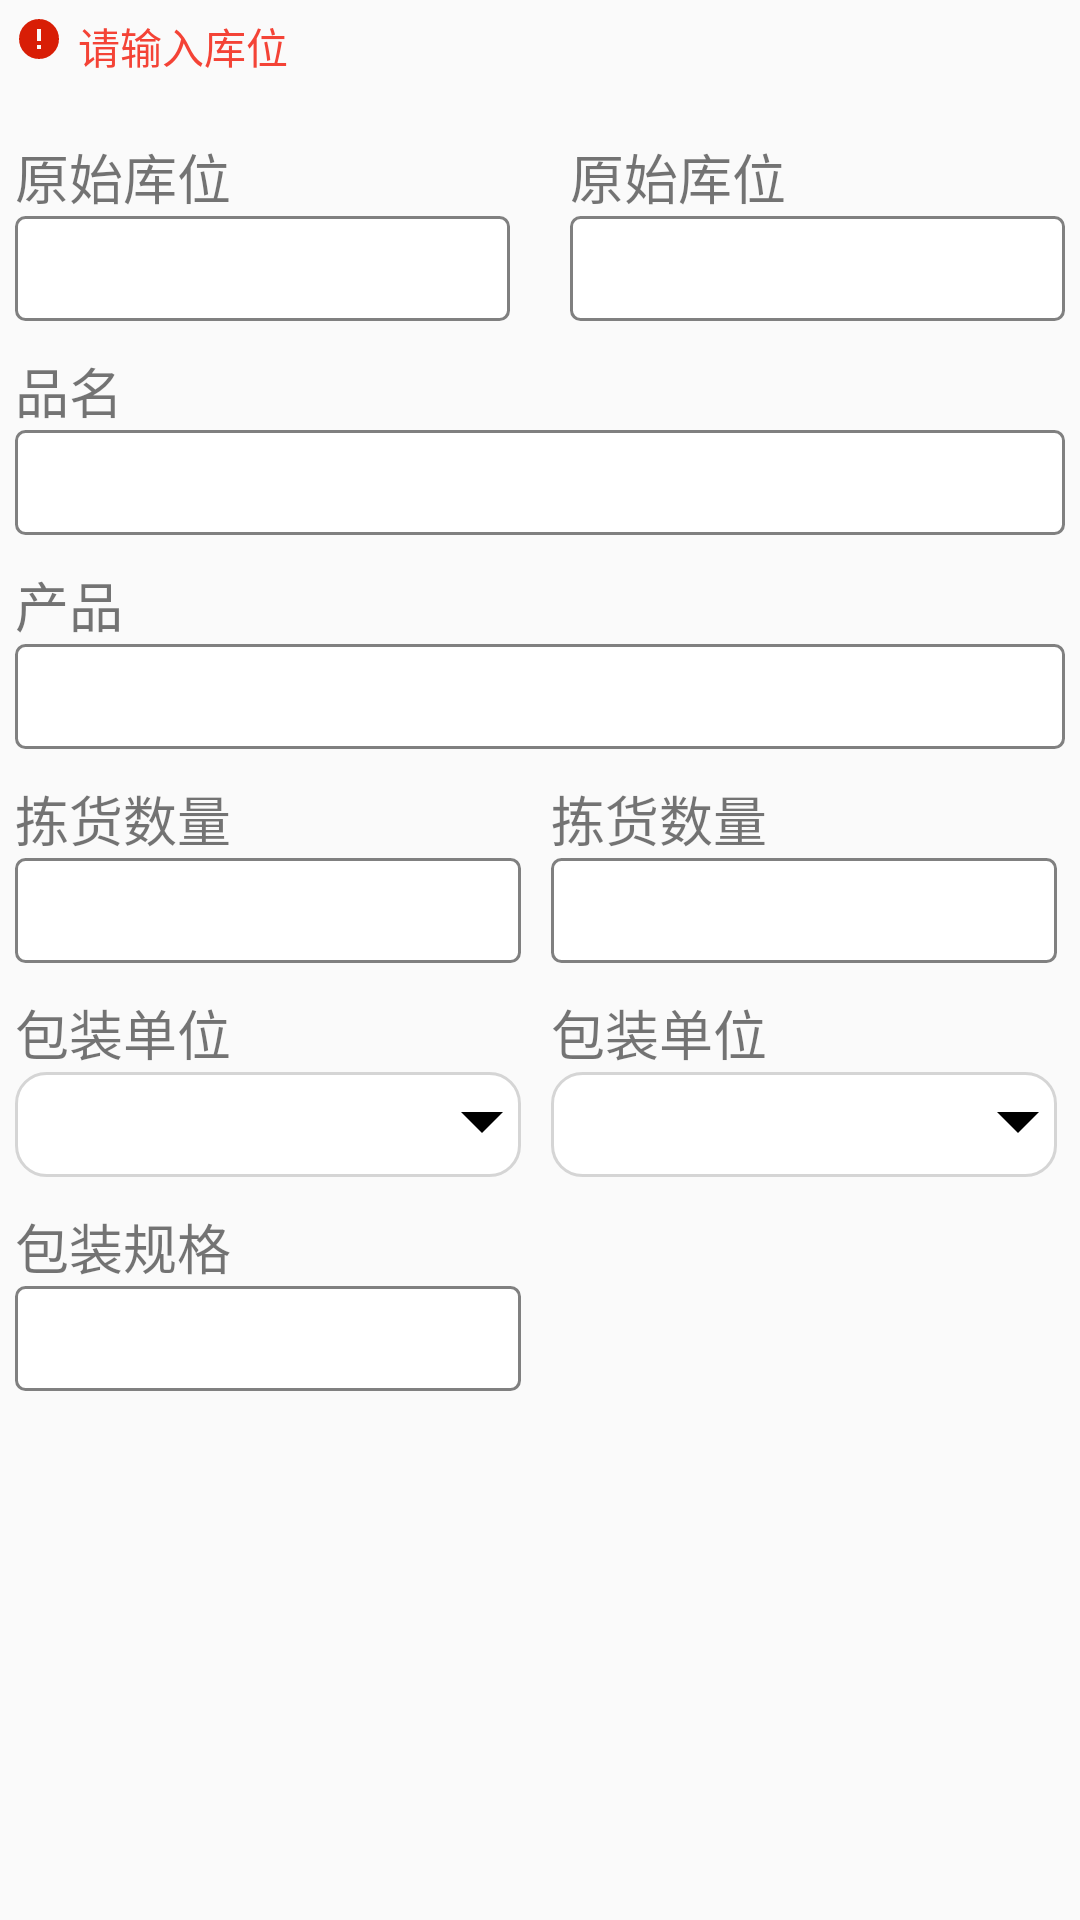

Named icons in this screenshot (1080px x 1920px) and their centers, point (x, y):
error: point (39, 39)
